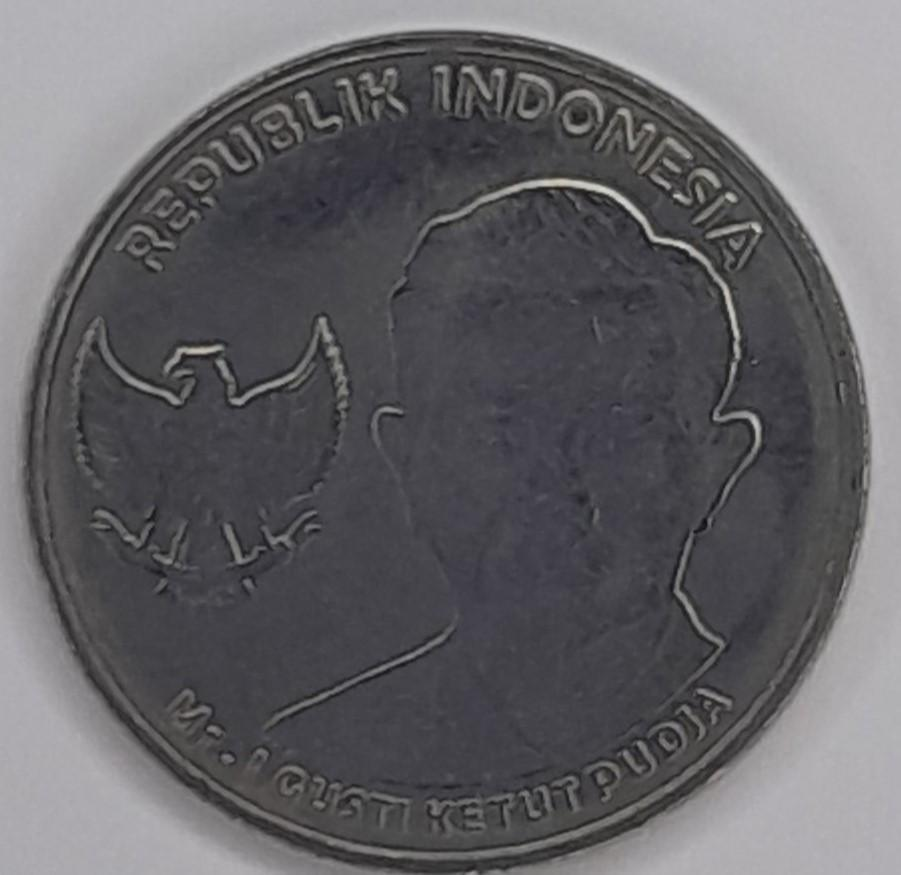coin_1000_e2016: (15, 17, 889, 875)
